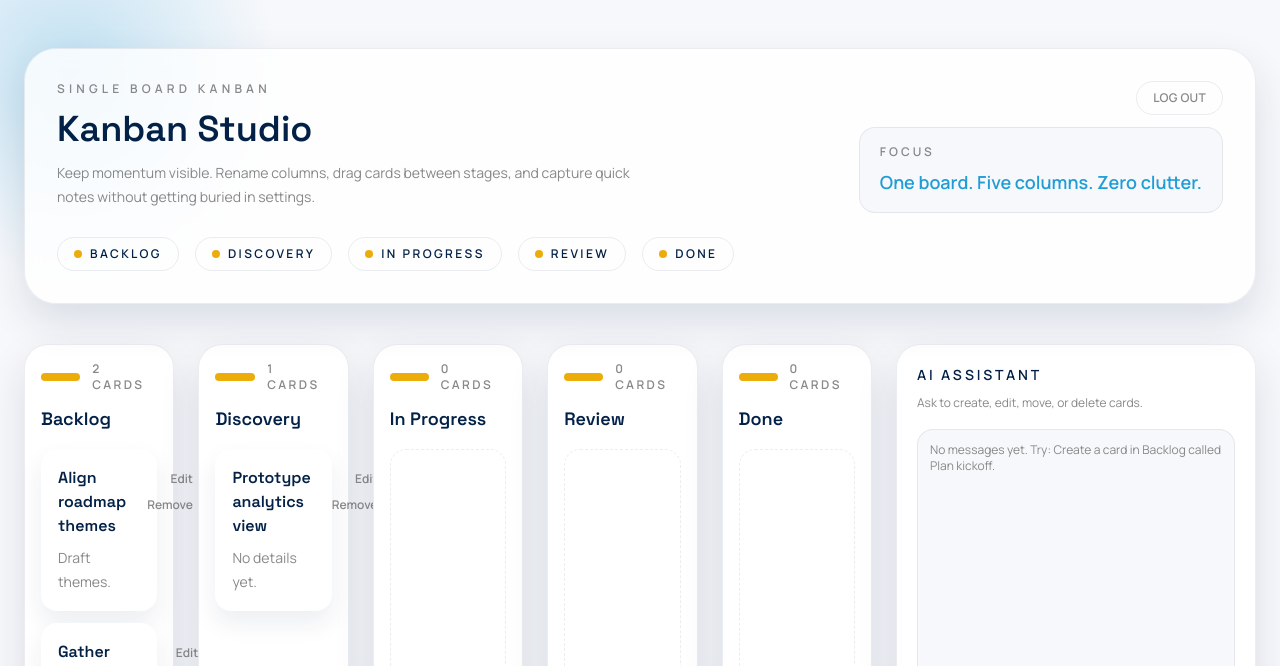
Test: cards › keeps the card and makes no request when editing is cancelled
Click the button with aria-label "edit align roadmap themes": (182, 479) [161,466,202,492]
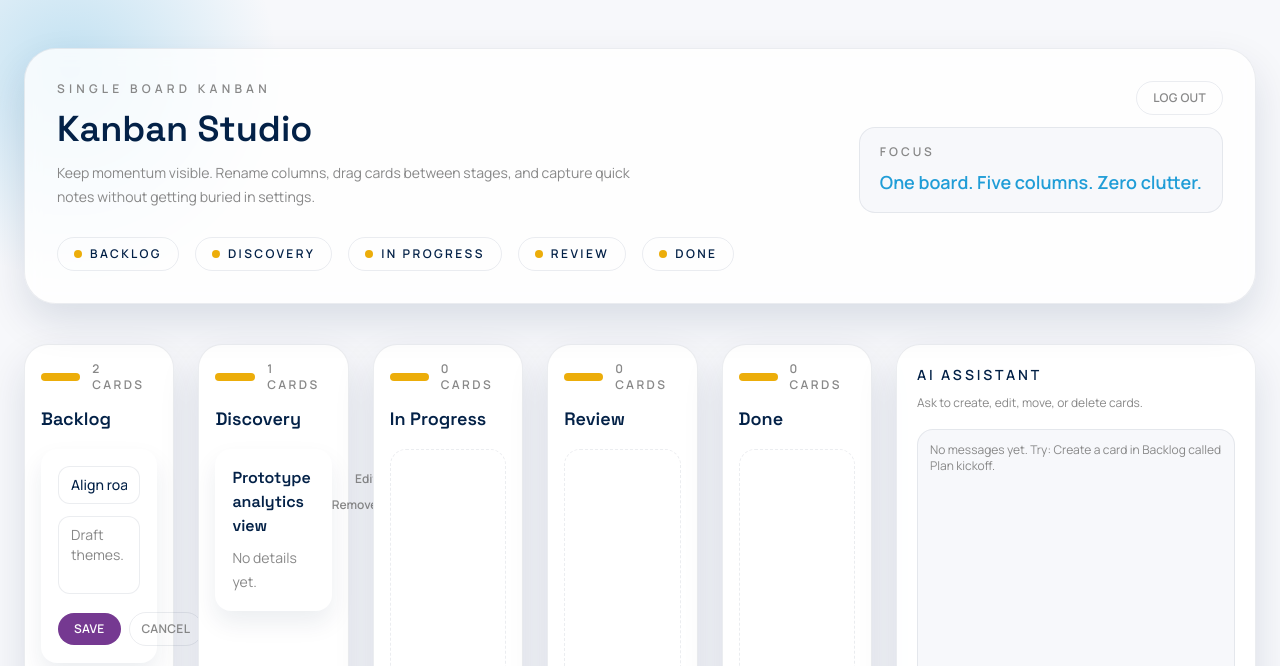
In the field named "Card title": (99, 485) [58,466,140,504], type " changed"
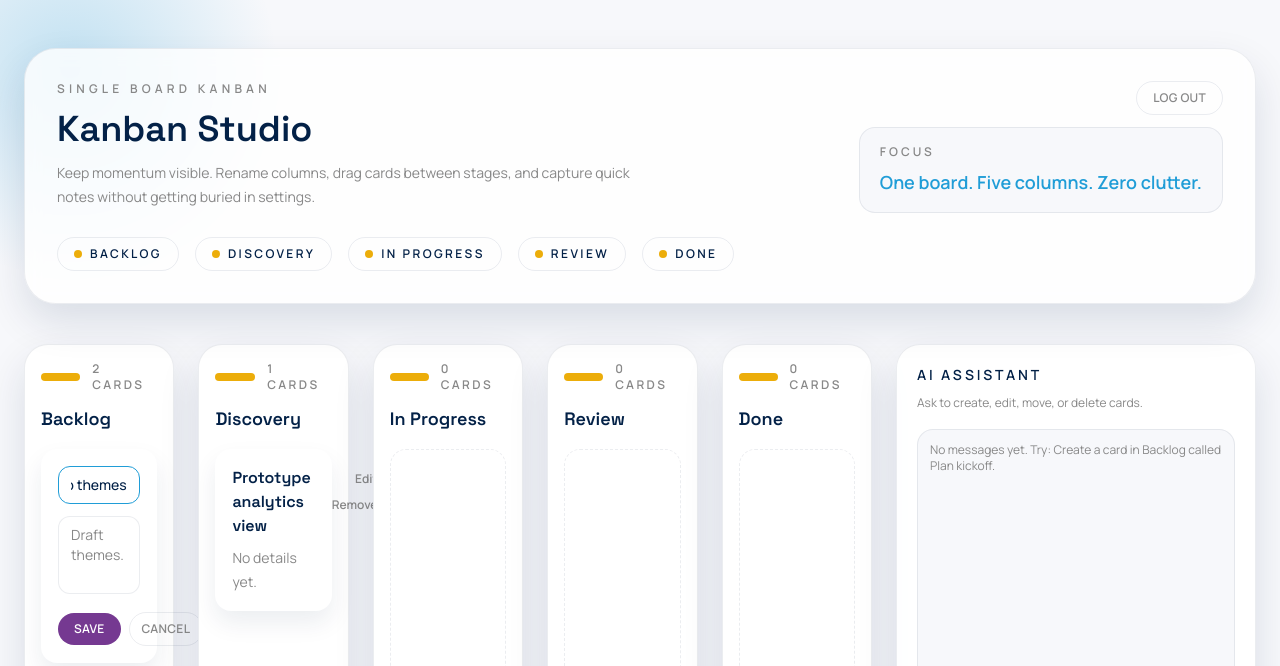
Click the button "Cancel": (166, 629) [128,612,203,646]
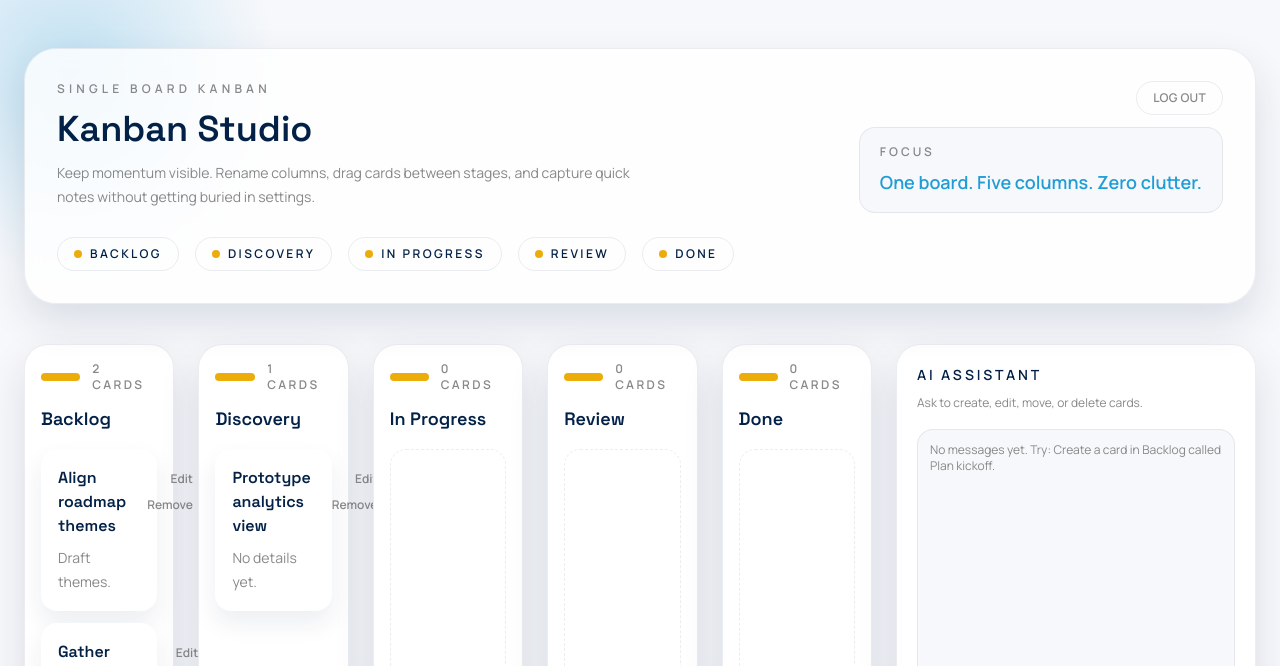
Expected: the heading "Align roadmap themes" is shown, [58,466,126,538]
